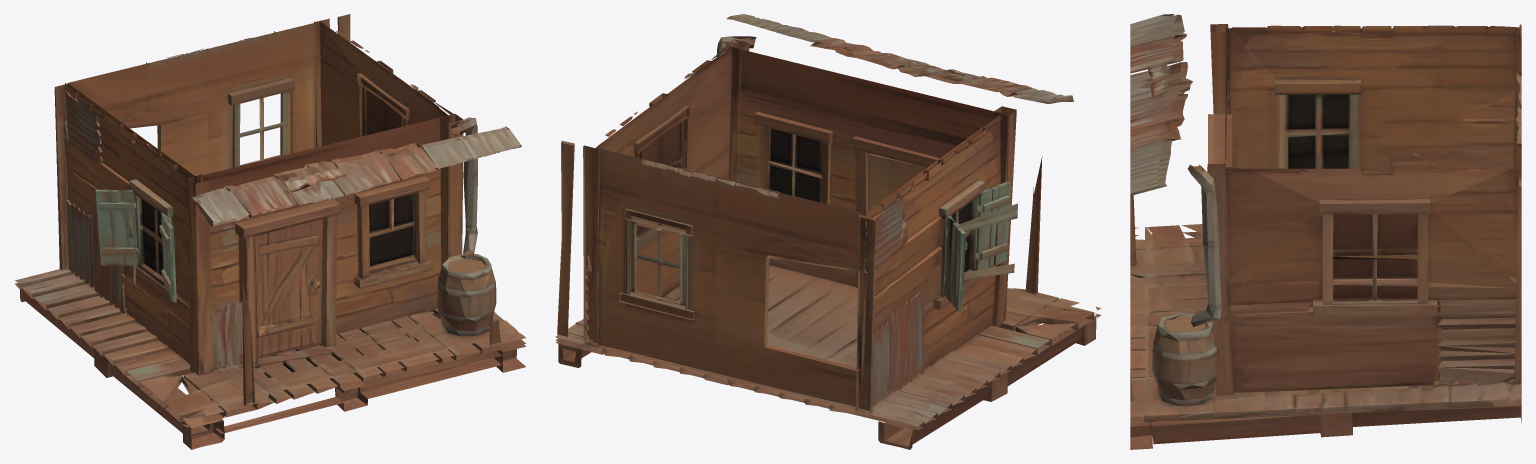
The model's file is covers_remise_w.glb.
3 views of the same model, side by side, from view 1: azimuth 30°, elevation 25°; view 2: azimuth 150°, elevation 25°; view 3: azimuth 270°, elevation 25° (orthographic). The views are drawn at different scales.
Visible parts, largest first — view 1: wl_shack; view 2: wl_shack; view 3: wl_shack.
Part boxes in pixels (box(x1,y1,x2,y2)): wl_shack: box(15, 14, 526, 449); wl_shack: box(555, 14, 1101, 449); wl_shack: box(1130, 14, 1521, 449).
Size of the model in its own units: 4 by 2.6 by 3.5.
1 material, 1 textured.
